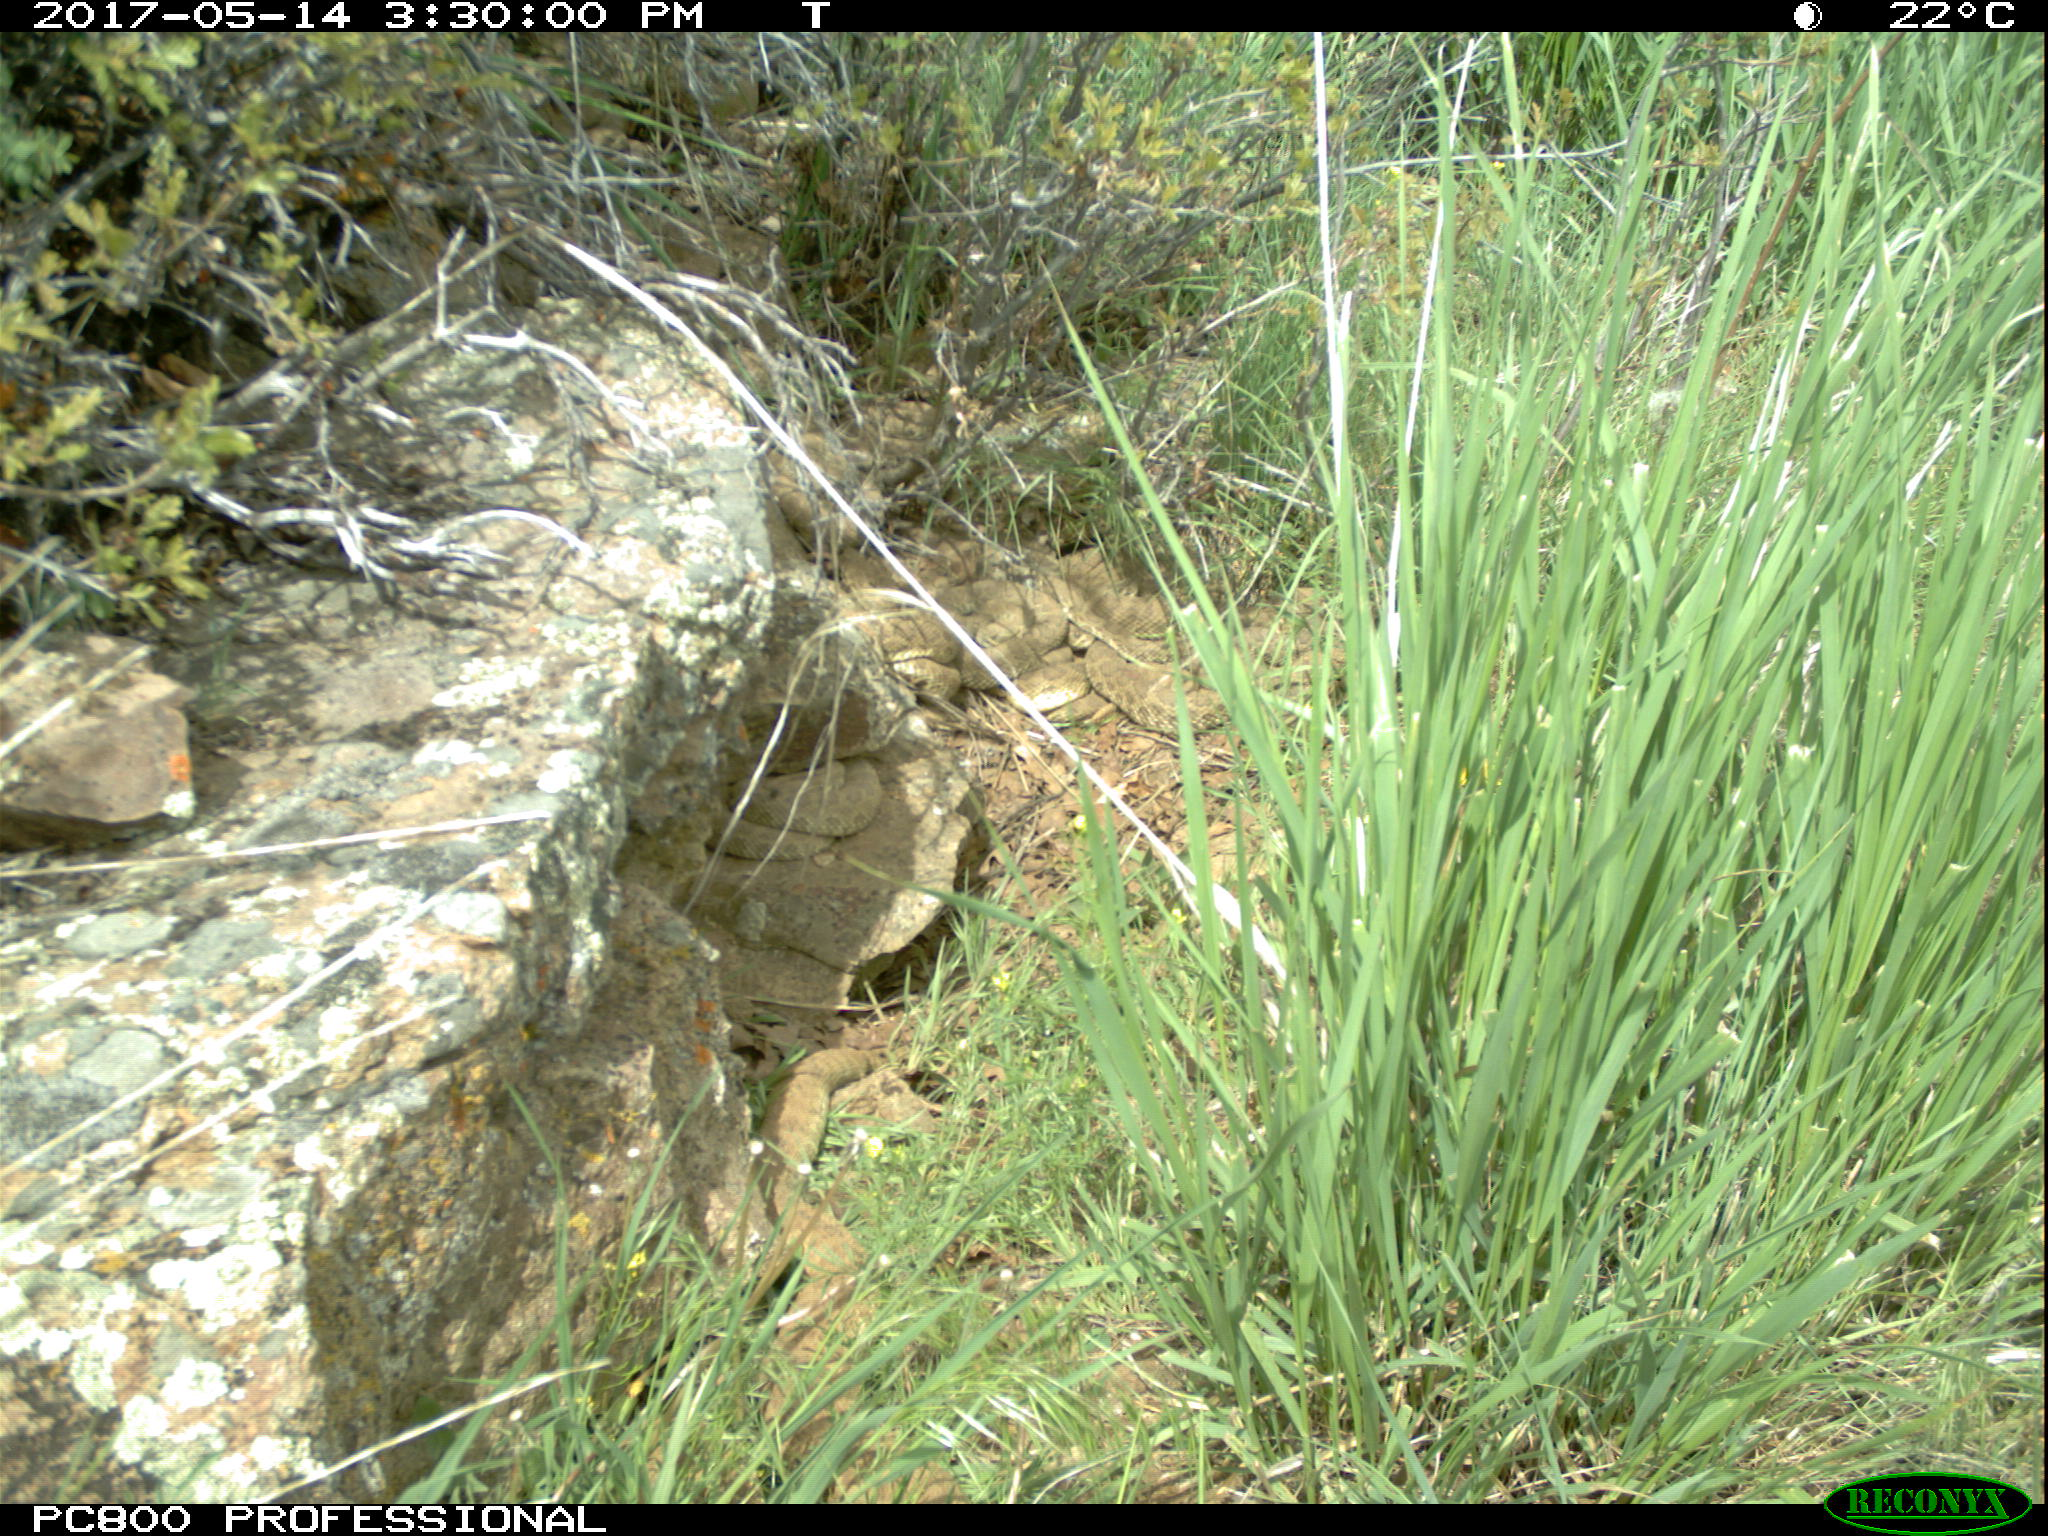snake: (756, 1046, 871, 1367), (701, 760, 893, 863), (1084, 632, 1232, 736), (919, 586, 1068, 687), (1055, 532, 1187, 636), (668, 77, 764, 124)
